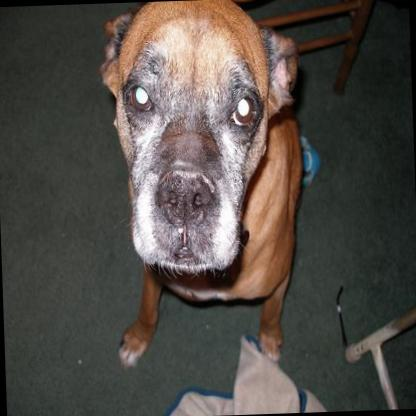boxer: (94, 0, 309, 367)
